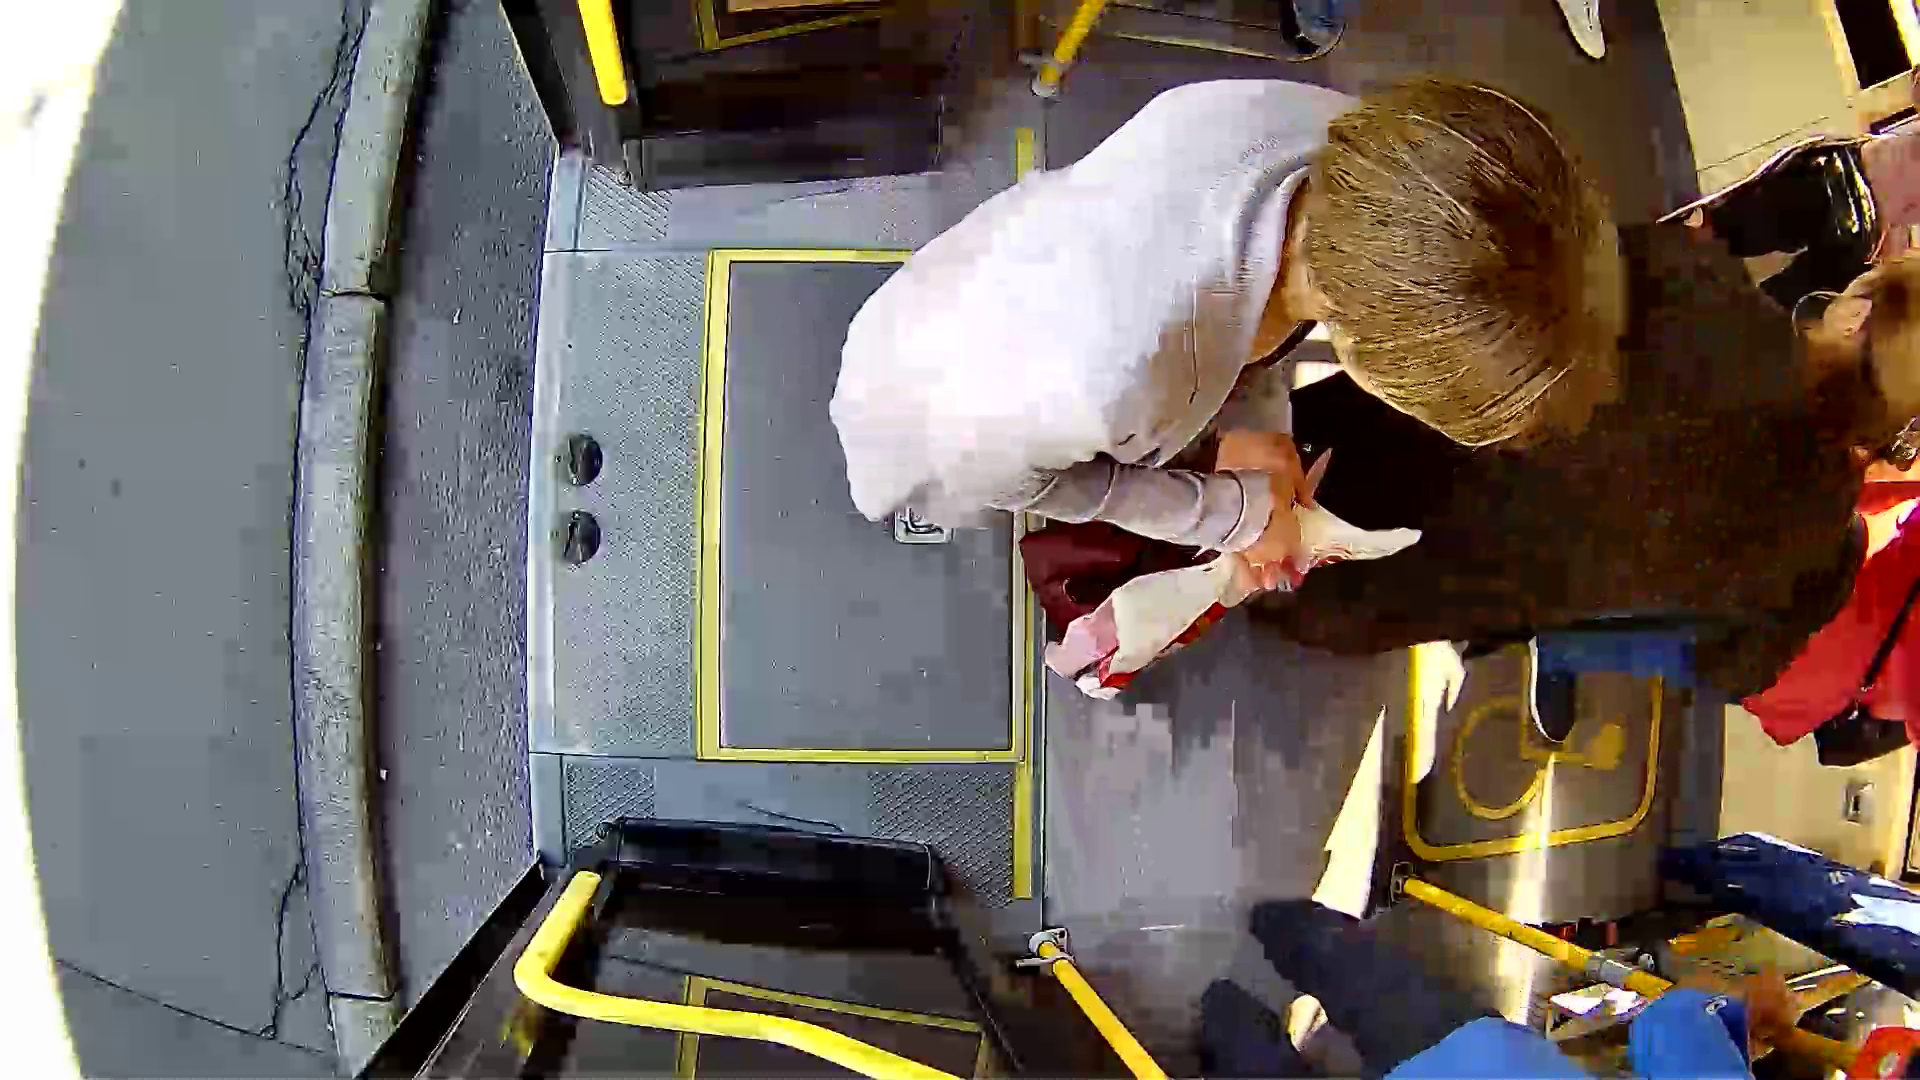person: (837, 92, 1638, 554)
